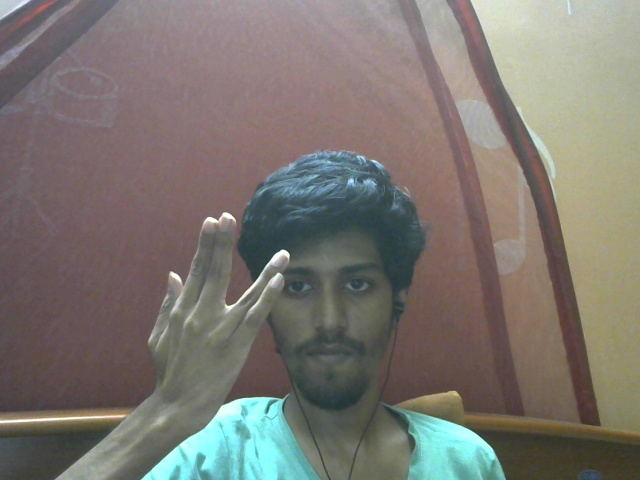LiveLong: (147, 213, 290, 424)
